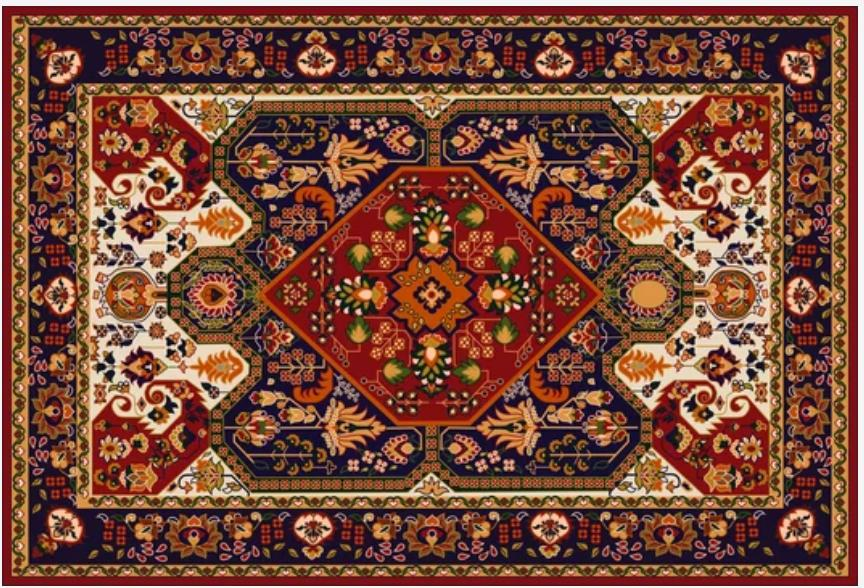carpet: (5, 8, 857, 581)
